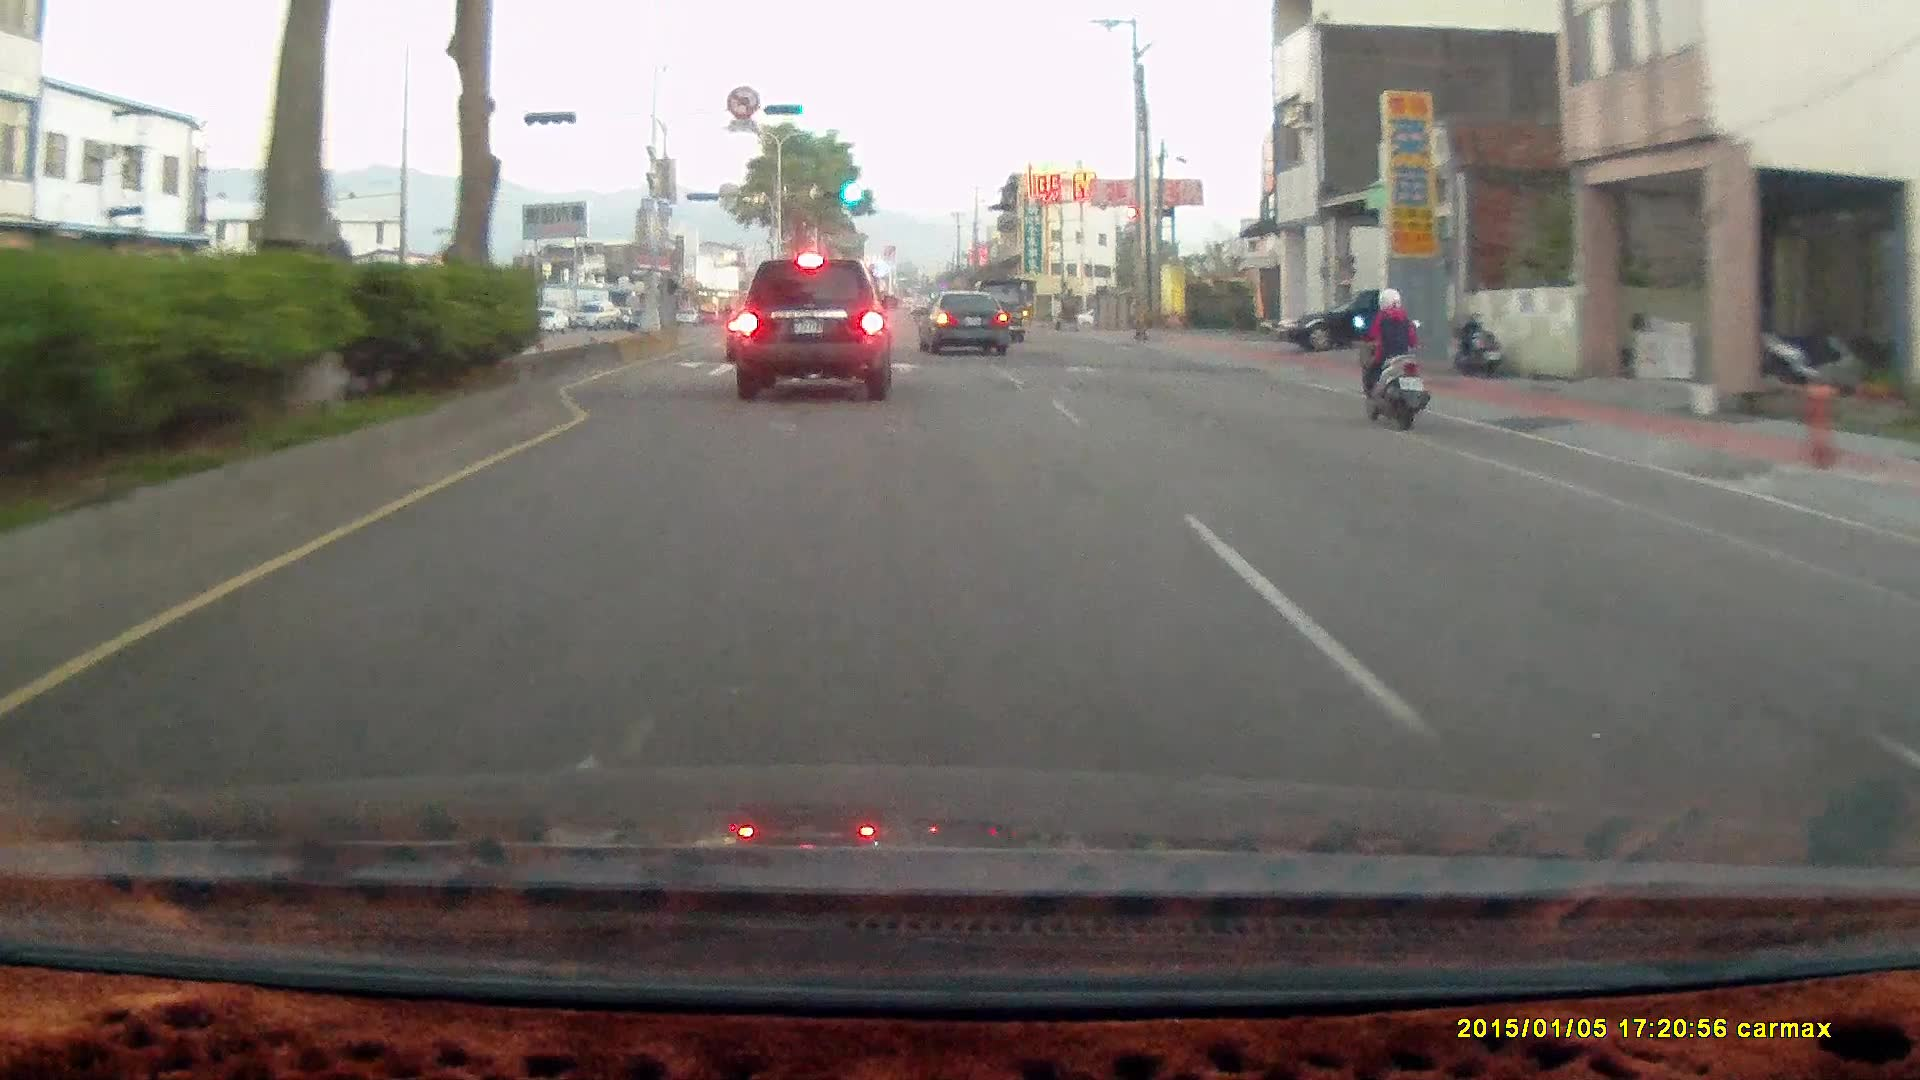rider: (1344, 277, 1440, 439), (1352, 286, 1430, 431)
vehicle: (727, 261, 891, 412), (733, 258, 897, 401), (1278, 282, 1469, 351), (1280, 290, 1389, 354), (918, 292, 1012, 357), (918, 291, 1008, 356), (967, 277, 1027, 341), (568, 301, 616, 331), (528, 308, 570, 334)
